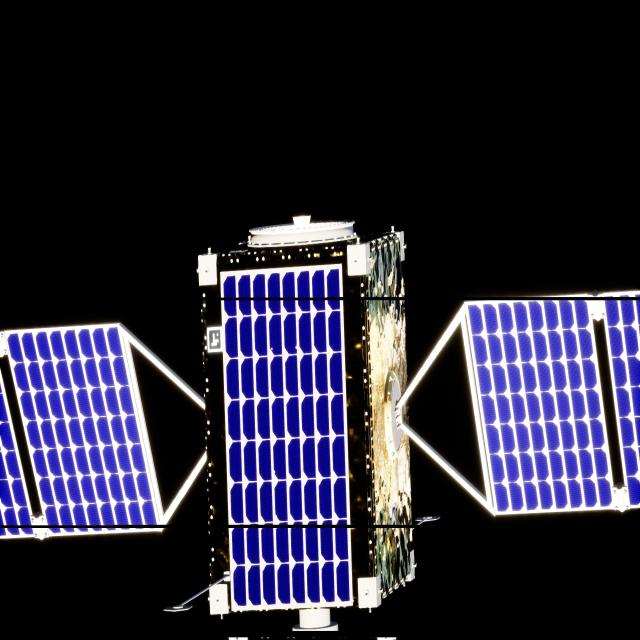satellite: (0, 214, 640, 618)
